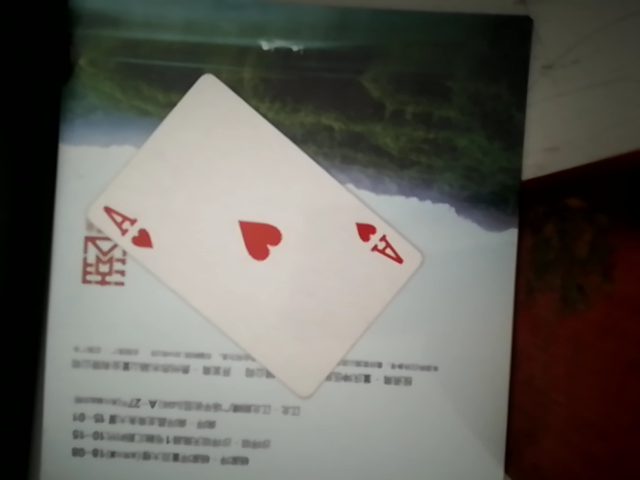hx a: (73, 69, 430, 388)
